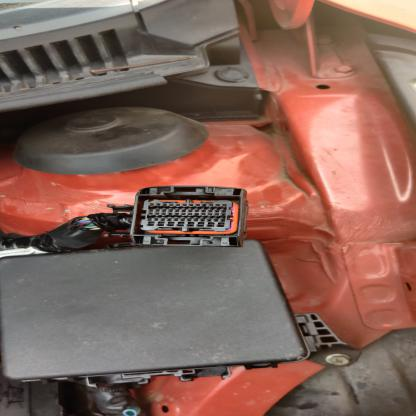Connector: (109, 181, 259, 253)
